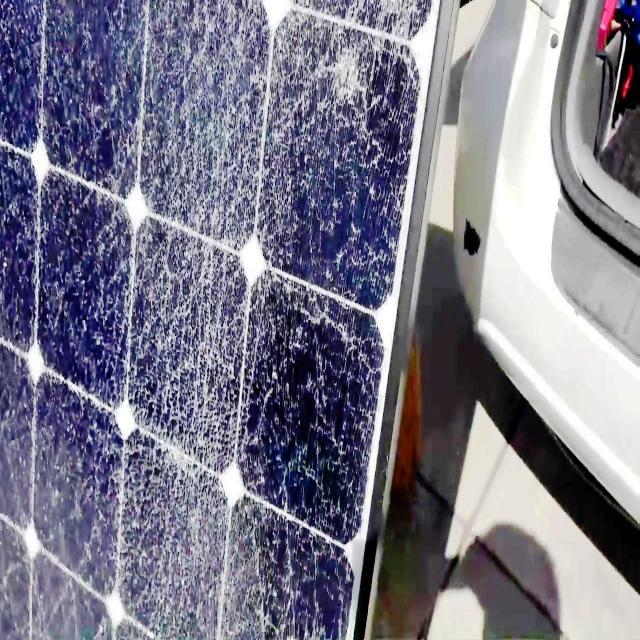faulty: (1, 6, 429, 640)
